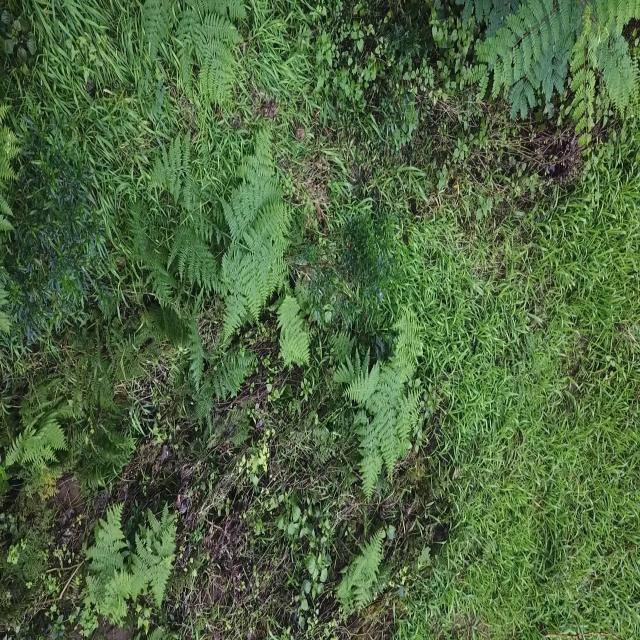Mysore-Thorn-Weed: (471, 0, 640, 151)
